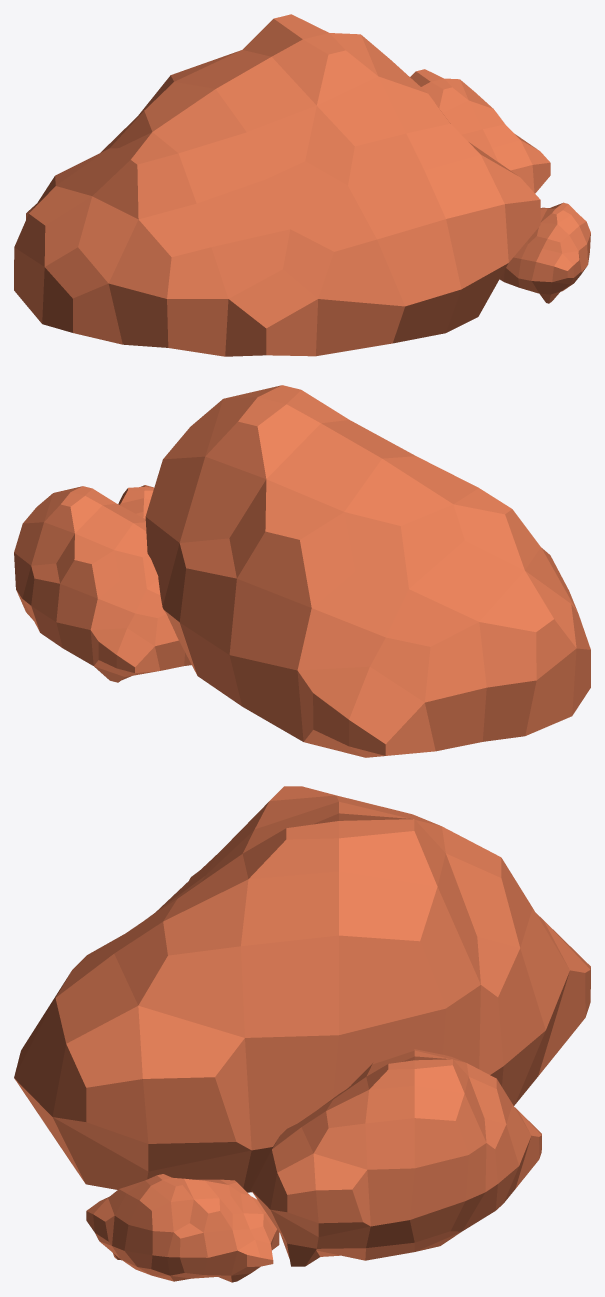
File: Rock_V08.fbx
3 views of the same model, one above another, from view 1: azimuth 30°, elevation 25°; view 2: azimuth 150°, elevation 25°; view 3: azimuth 270°, elevation 25° (orthographic). The views are drawn at different scales.
Visible parts, largest first — view 1: Rock_V08; view 2: Rock_V08; view 3: Rock_V08.
Boxes of the visible parts, x1,y1,x2,y2 form: Rock_V08: [14, 14, 590, 356]; Rock_V08: [14, 385, 590, 757]; Rock_V08: [14, 786, 590, 1282].
Size of the model in its own units: 136 by 65.44 by 102.
